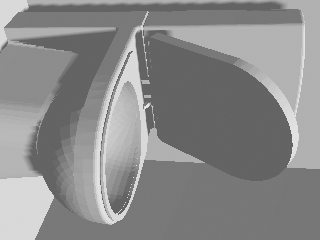lid_1: (148, 34, 297, 179)
